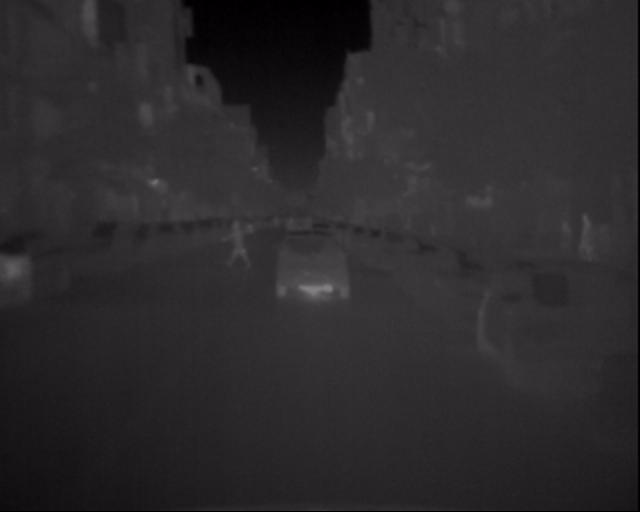person: (222, 208, 254, 284), (571, 206, 603, 272)
